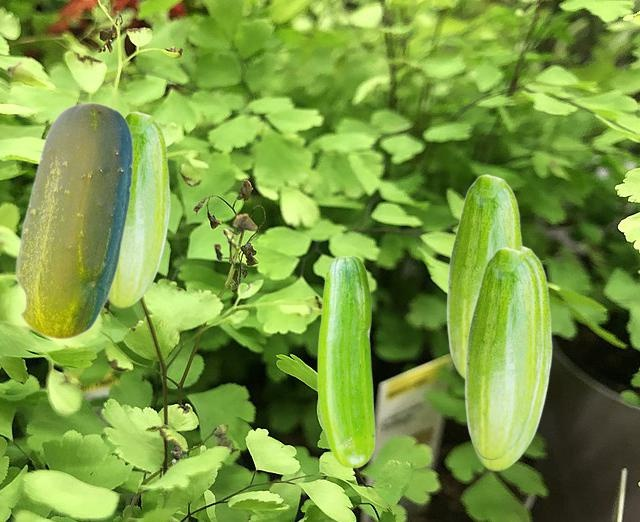cucumber: (14, 101, 132, 339), (470, 245, 551, 470), (464, 247, 542, 459), (446, 174, 522, 379), (317, 255, 374, 467), (108, 111, 169, 307)
